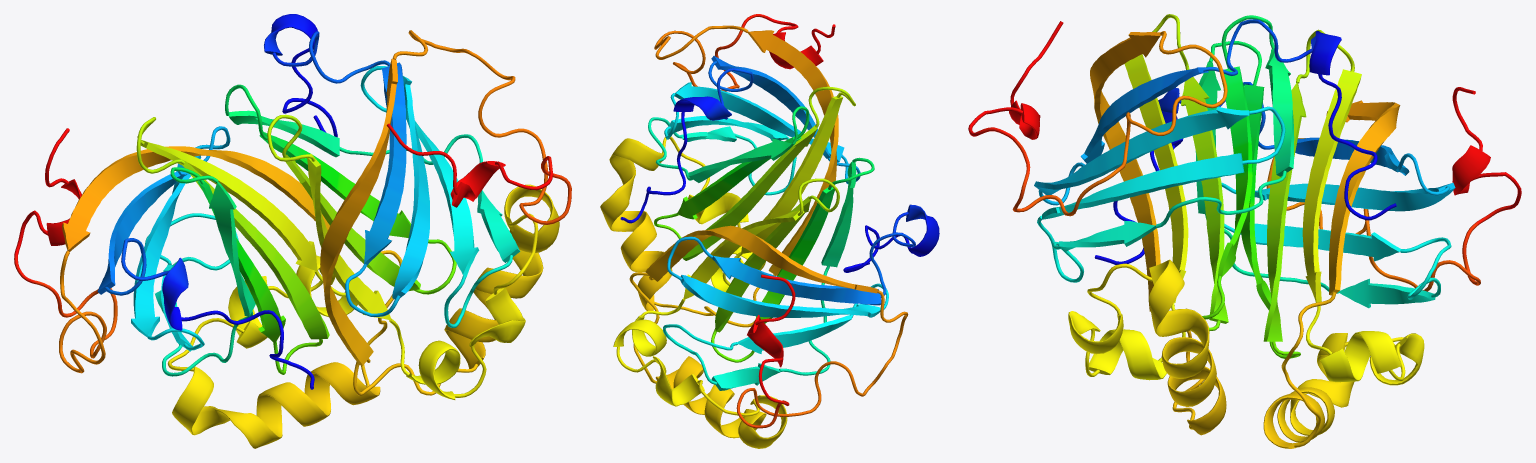
File: Rainbow.gltf
3 views of the same model, side by side, from view 1: azimuth 30°, elevation 25°; view 2: azimuth 150°, elevation 25°; view 3: azimuth 270°, elevation 25° (orthographic). The views are drawn at different scales.
Parts seen in each view (by area): view 1: node-geom1, node-geom0, node-geom2; view 2: node-geom0, node-geom1, node-geom2; view 3: node-geom1, node-geom0, node-geom2.
Part boxes in pixels (bbox=[...]): node-geom1: bbox=[14, 14, 571, 399]; node-geom0: bbox=[15, 117, 402, 448]; node-geom2: bbox=[386, 30, 569, 222]; node-geom0: bbox=[613, 157, 939, 448]; node-geom1: bbox=[600, 25, 906, 425]; node-geom2: bbox=[654, 14, 835, 90]; node-geom1: bbox=[969, 14, 1518, 435]; node-geom0: bbox=[1094, 29, 1521, 448]; node-geom2: bbox=[968, 21, 1224, 215].
Bounding box in the file's own units: 50.02 × 48.5 × 55.93.
